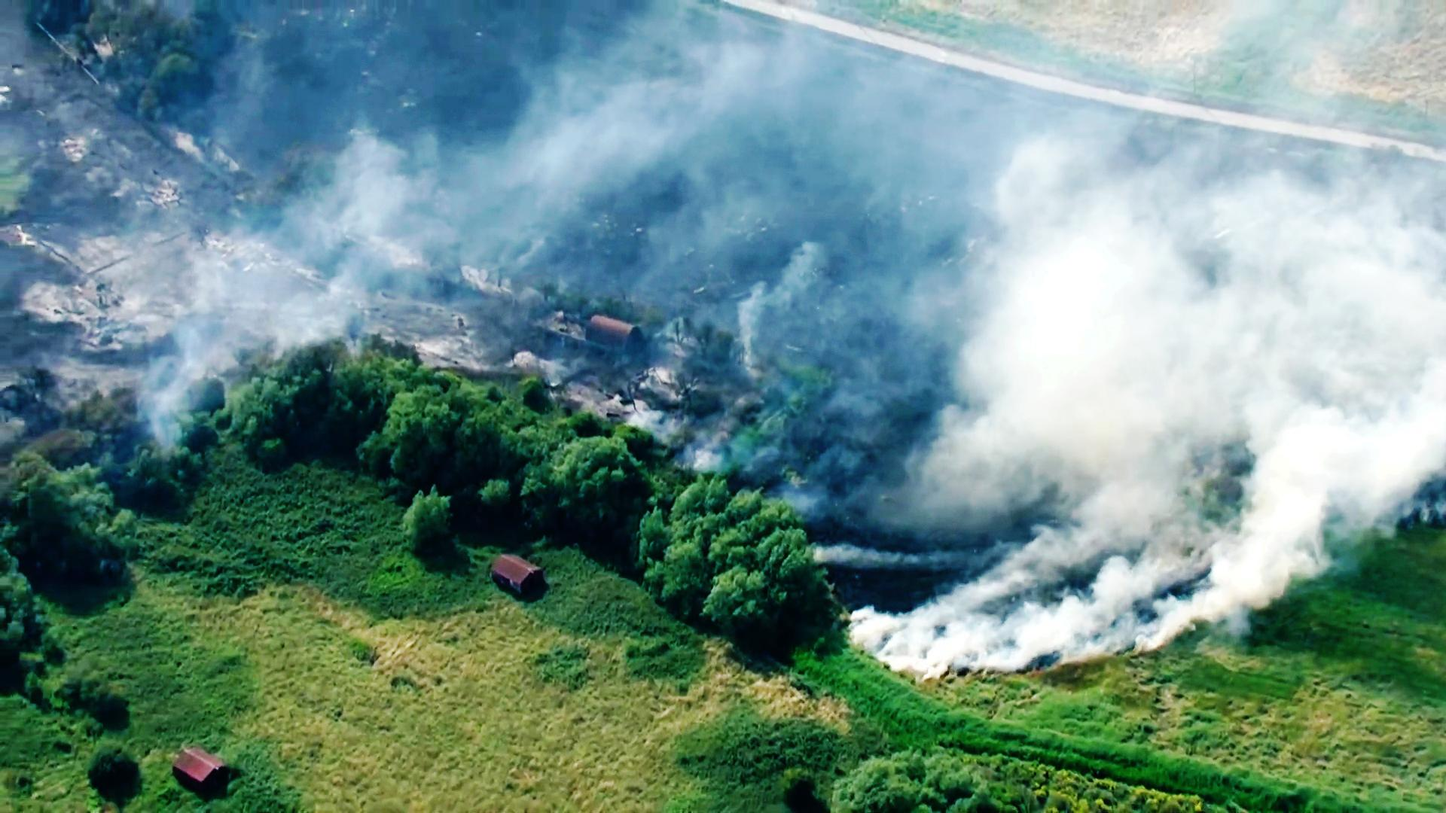smoke: (944, 183, 1232, 499), (1219, 215, 1446, 491), (901, 550, 1170, 672), (1212, 461, 1356, 598)
